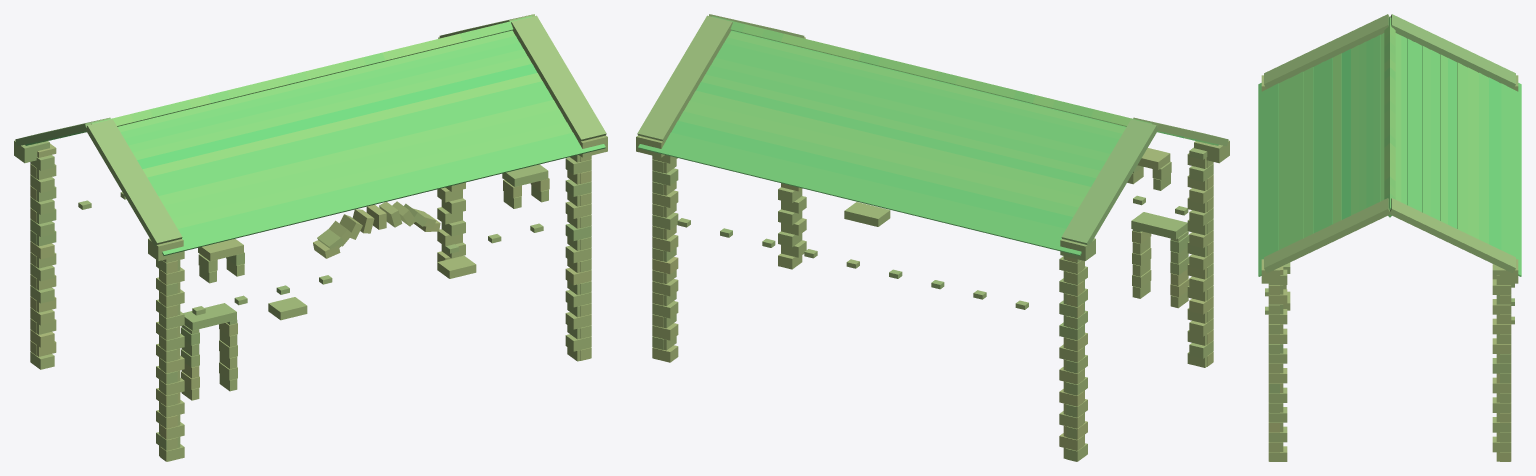
The model's file is SM_Bld_012_Stone.glb.
3 views of the same model, side by side, from view 1: azimuth 30°, elevation 25°; view 2: azimuth 150°, elevation 25°; view 3: azimuth 270°, elevation 25° (orthographic). The views are drawn at different scales.
Parts seen in each view (by area): view 1: SM_Bld_012_Stone; view 2: SM_Bld_012_Stone; view 3: SM_Bld_012_Stone.
Boxes of the visible parts, x1,y1,x2,y2 form: SM_Bld_012_Stone: (14,14,607,461); SM_Bld_012_Stone: (636,14,1229,461); SM_Bld_012_Stone: (1258,14,1521,461).
Size of the model in its own units: 12.77 by 7.89 by 7.29.
